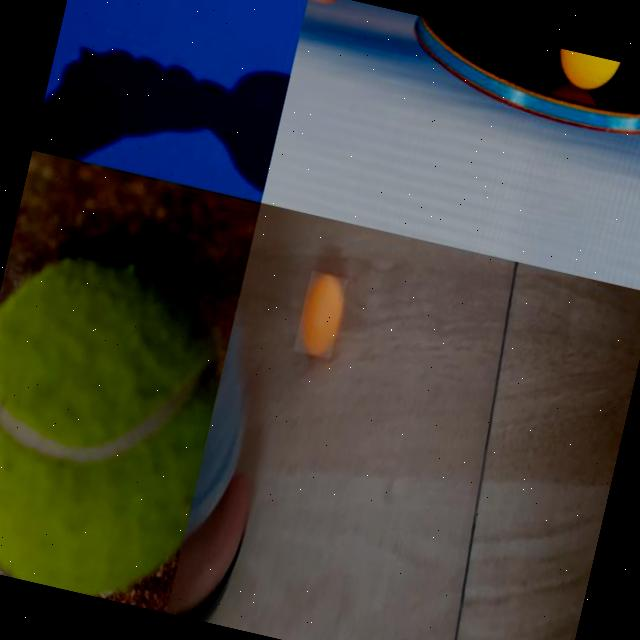ping-pong-ball: (292, 268, 348, 358), (551, 46, 619, 94)
